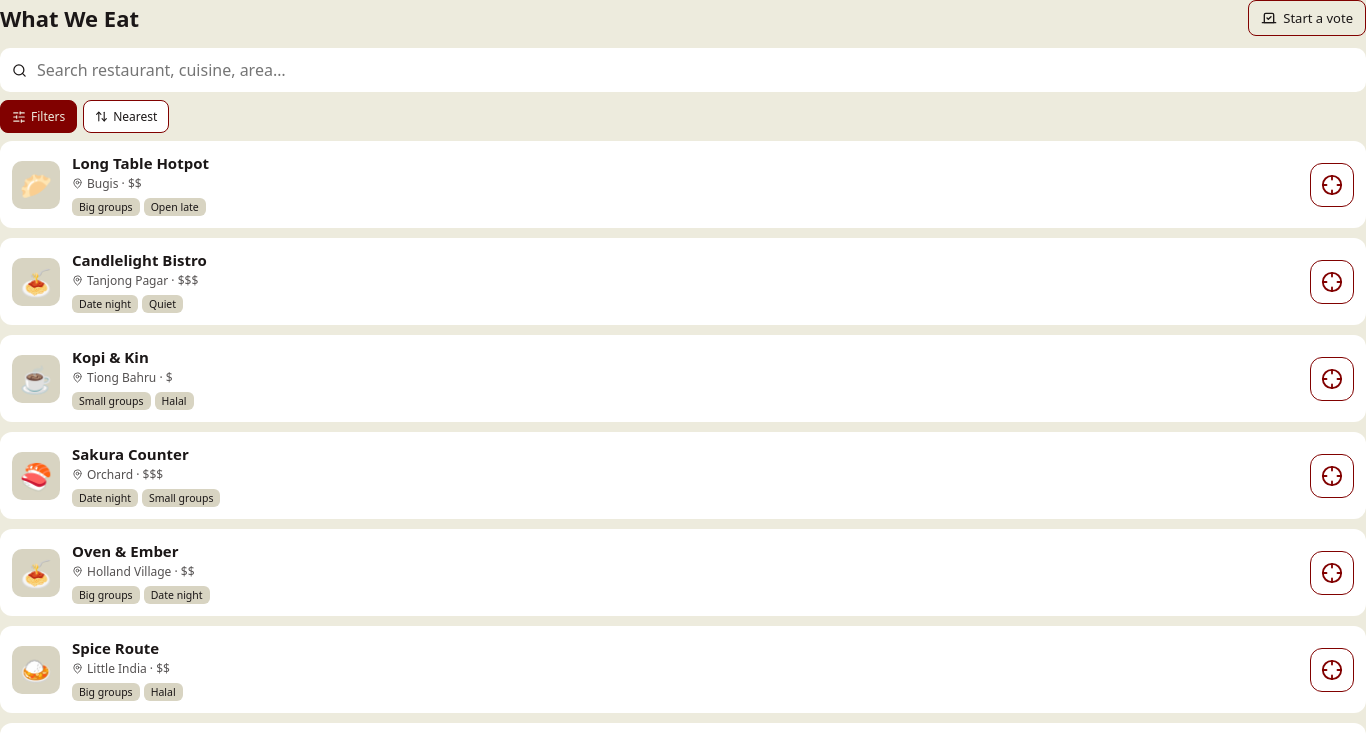
Test: when permission is denied the sheet says so and points to the area picker
The width and height of the screenshot is (1366, 736).
Expected: the link "Long Table Hotpot" is shown, top-left (72, 153), bottom-right (209, 173)
Click the button "Filters": click(39, 116) top-left (0, 100), bottom-right (77, 133)
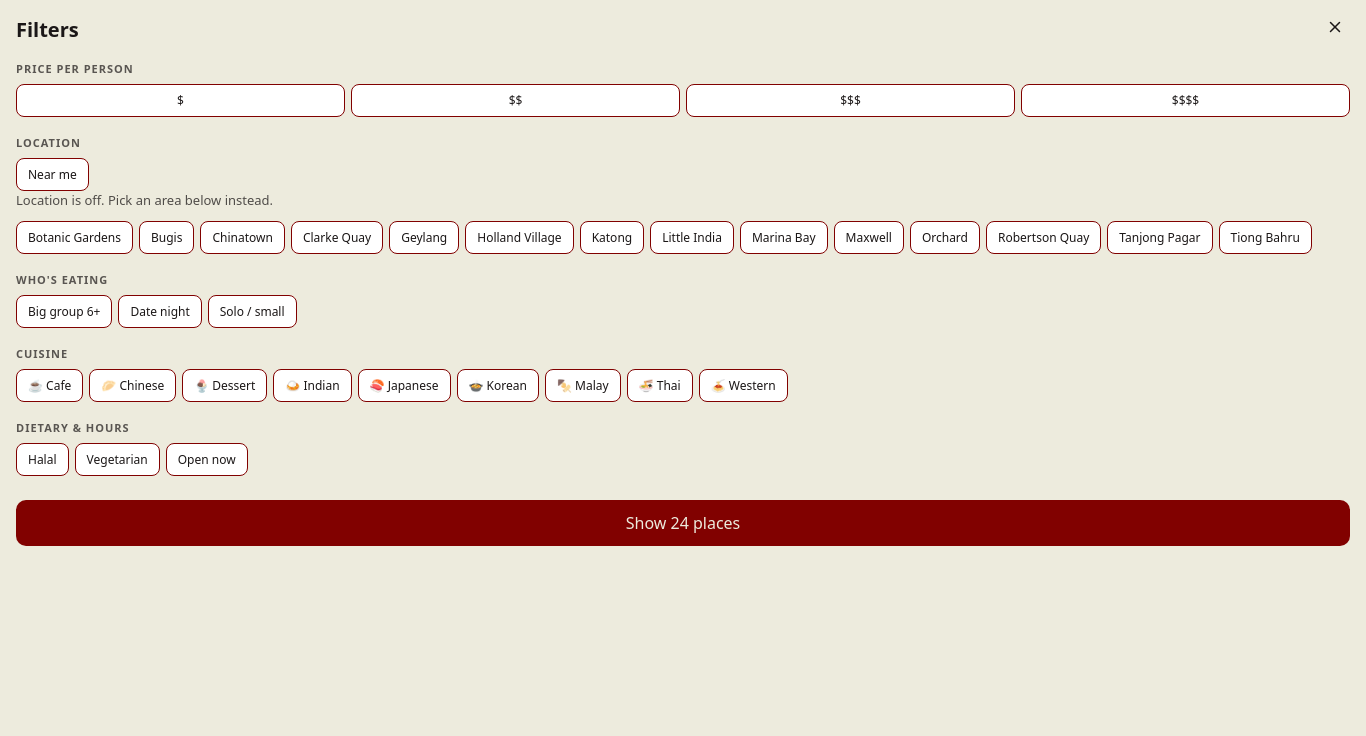
Expected: the text "Location is off. Pick an area below instead." is shown, top-left (16, 191), bottom-right (273, 209)
Expected: the button "Bugis" is shown, top-left (139, 221), bottom-right (194, 254)
